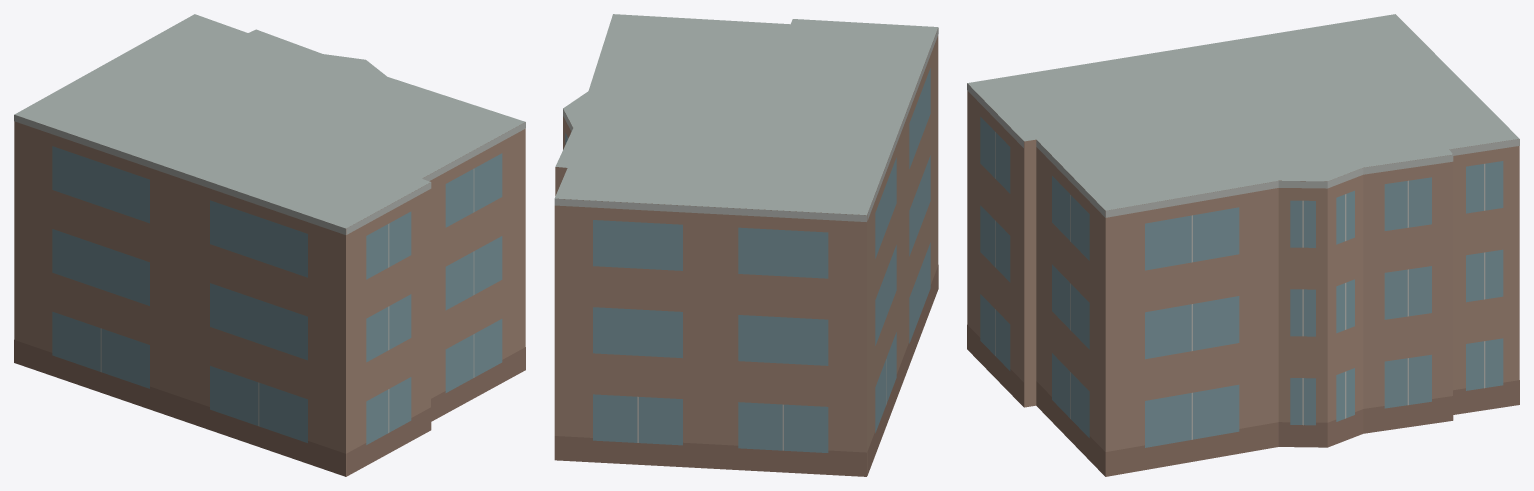
File: survey-upis-33014175.glb
3 renders of one model, left to right at view 1: azimuth 30°, elevation 25°; view 2: azimuth 150°, elevation 25°; view 3: azimuth 270°, elevation 25°, orthographic. The views are drawn at different scales.
Parts seen in each view (by area): view 1: survey-upis-33014175.tmp; view 2: survey-upis-33014175.tmp; view 3: survey-upis-33014175.tmp.
Part boxes in pixels (x1,y1,x2,y2): survey-upis-33014175.tmp: (14,14,525,476); survey-upis-33014175.tmp: (554,14,938,476); survey-upis-33014175.tmp: (967,14,1519,476).
Size of the model in its own units: 14.52 by 9.15 by 17.23.
